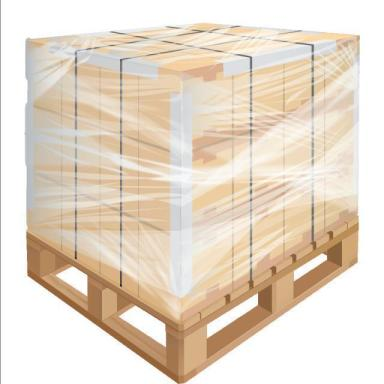pallet: (26, 215, 359, 384), (207, 293, 258, 338), (116, 305, 166, 347), (55, 266, 87, 297), (294, 253, 327, 281)
